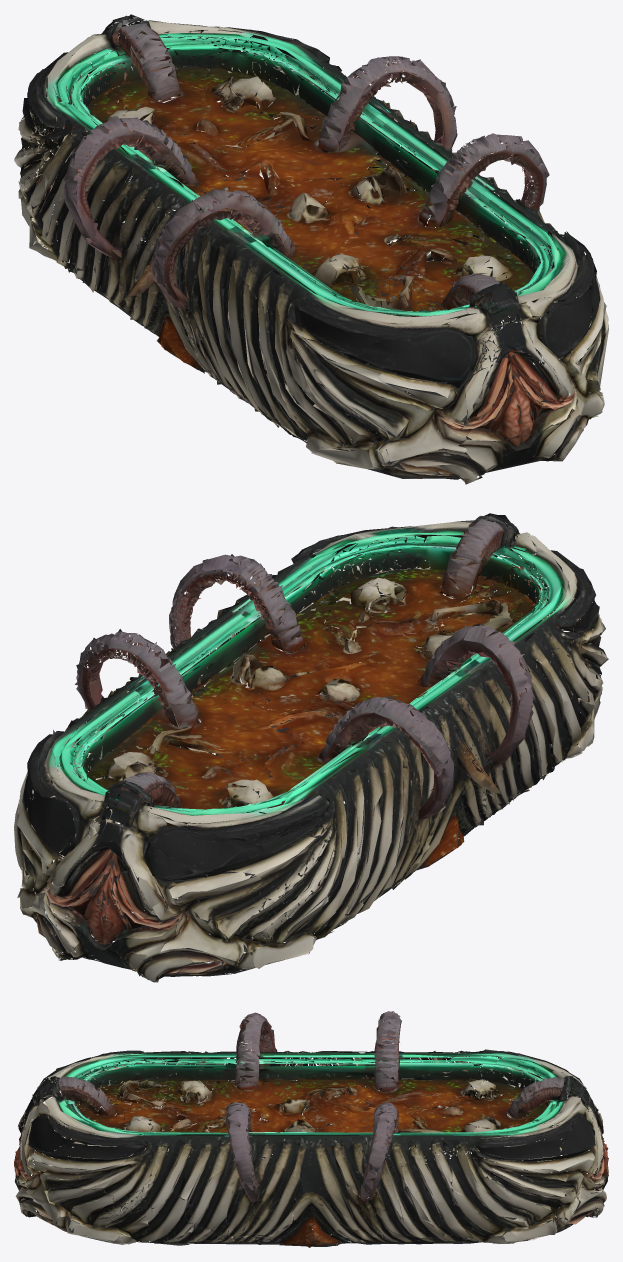
Rendered from hive_amniotic_feeder_trough.glb.
3 renders of one model, top to bottom at view 1: azimuth 30°, elevation 25°; view 2: azimuth 150°, elevation 25°; view 3: azimuth 270°, elevation 25°, orthographic. The views are drawn at different scales.
Parts seen in each view (by area): view 1: node_0; view 2: node_0; view 3: node_0.
Boxes of the visible parts, x1=… form: node_0: x1=14, y1=14, x2=608, y2=484; node_0: x1=14, y1=513, x2=608, y2=982; node_0: x1=14, y1=1011, x2=608, y2=1247.
Size of the model in its own units: 0.6165 by 0.3093 by 1.18.
Materials: 1 (1 with a texture image).
